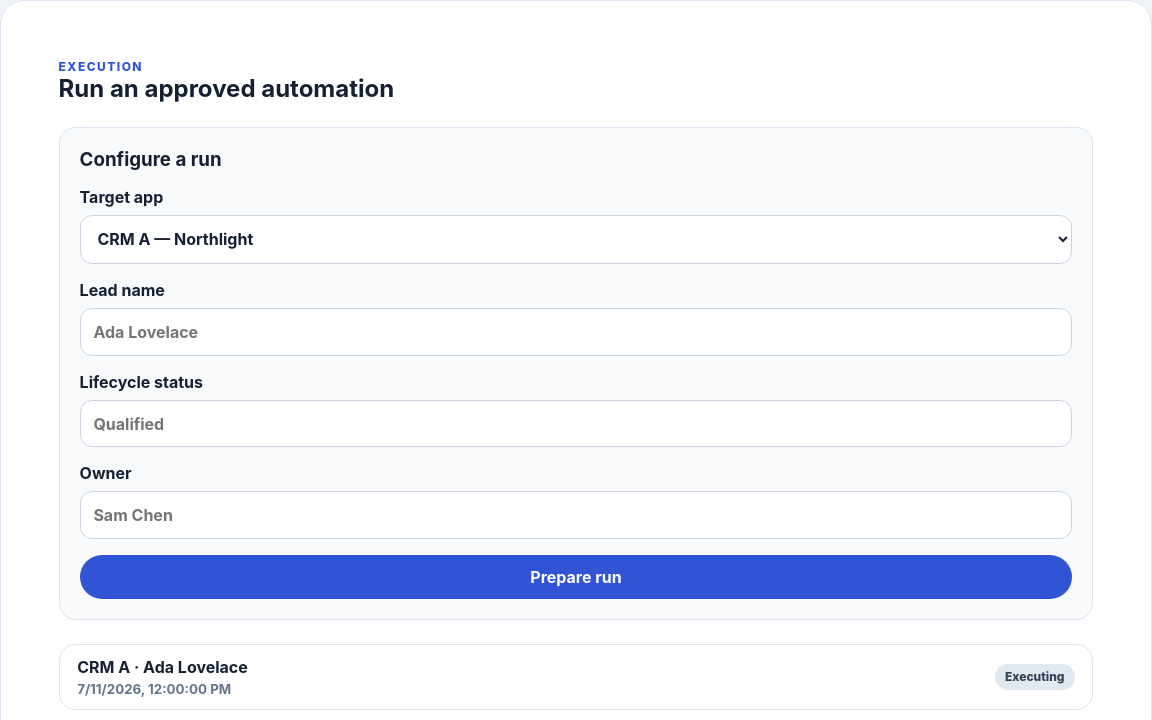
ExecutionPage executing surface › curates heartbeats into a single subtle line and shows the kill-switch hint
The image size is (1152, 720).
Click the button "CRM A · Ada Lovelace 7/11/2026, 12:00:00 PM executing".
click(104, 667)  # box [59,644,1093,710]
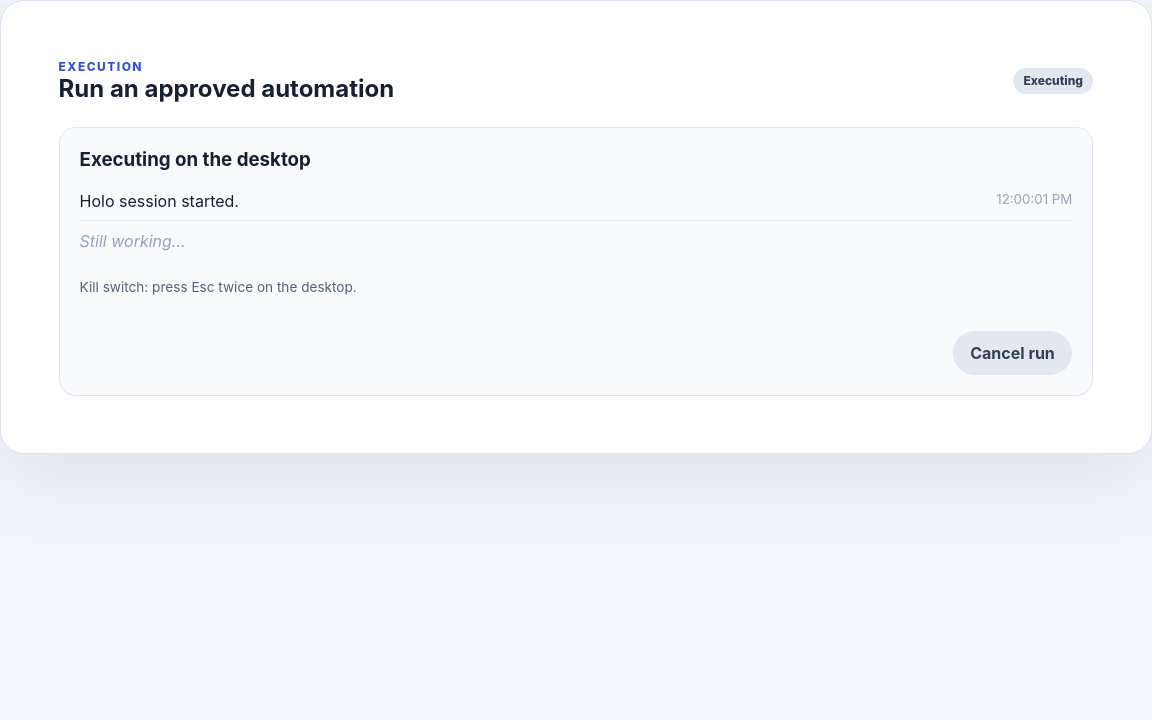
Expected: the text "Holo session started." is shown, [80,191,239,211]
Expected: the number of list items "Still working…" is 1, [80,231,186,251]
Expected: the text "Kill switch: press Esc twice on the desktop." is shown, [80,279,357,295]
